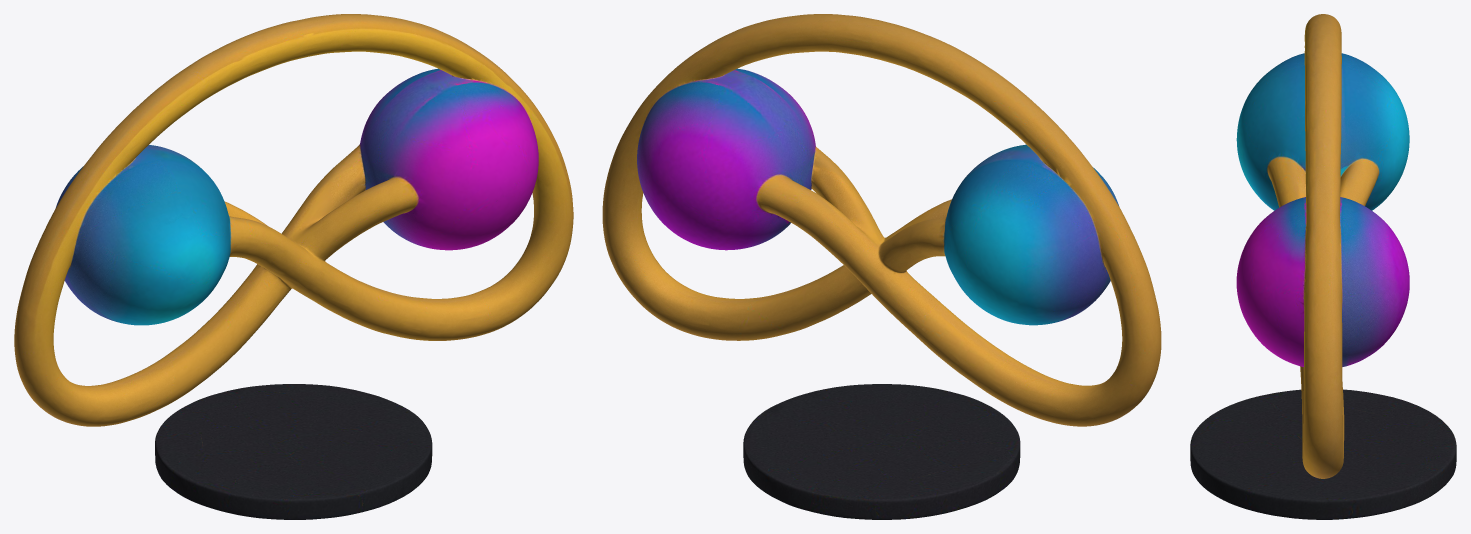
File: cross-chain-sculpture.optimized.glb
The picture shows the model from 3 angles, left to right: view 1: azimuth 30°, elevation 25°; view 2: azimuth 150°, elevation 25°; view 3: azimuth 270°, elevation 25°; orthographic projection. The views are drawn at different scales.
Size of the model in its own units: 1.9 by 1.44 by 0.8266.
Materials: 1 (1 with a texture image).
